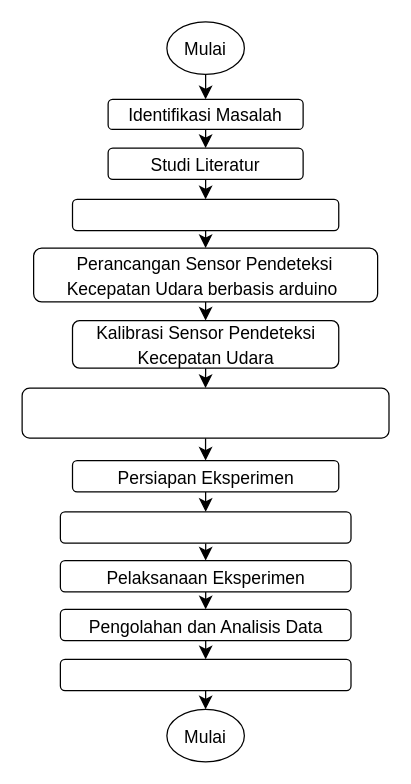
Image size: 411x784. Some labels were removed from this diagram. Here are the shapes that lost their labels. From the top down, the centre of each, then its label:
the point at 205,214: Setup Loop Heat Pipe (LHP)
the point at 205,412: Integrasi Software Pemantau Kecepatan Udara Real-Time
the point at 205,527: Pembuatan Matriks Eksperimen
the point at 205,674: Hasil dan Kesimpulan
